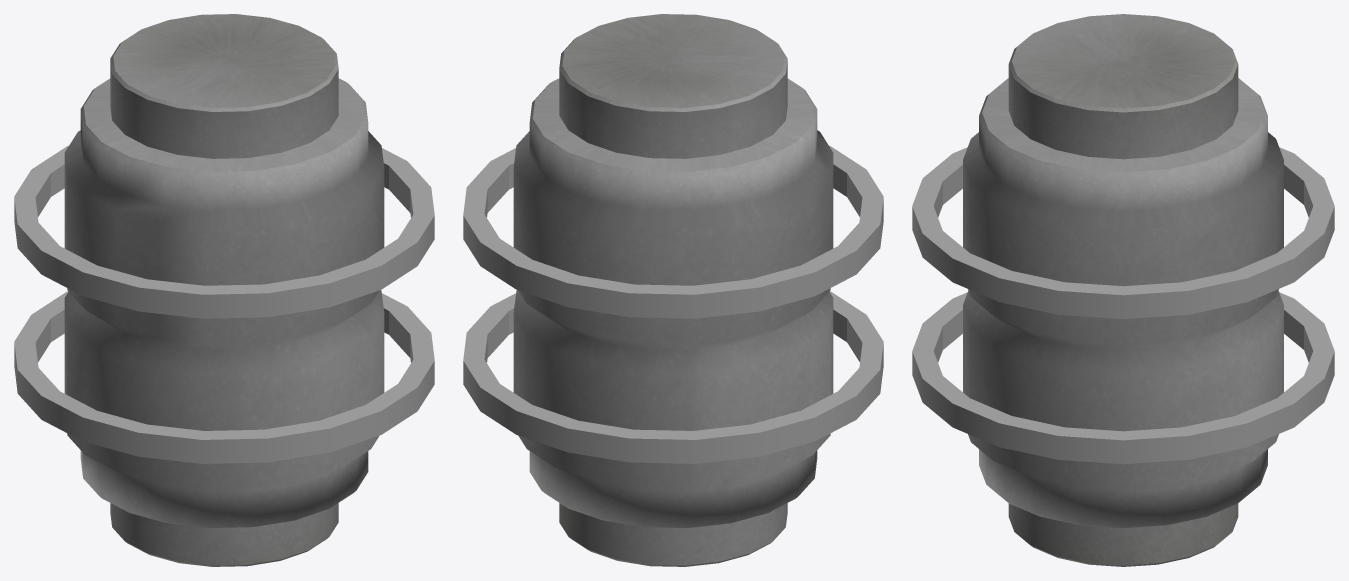
Rendered from Gerador (1).fbx.
3 views of the same model, side by side, from view 1: azimuth 30°, elevation 25°; view 2: azimuth 150°, elevation 25°; view 3: azimuth 270°, elevation 25° (orthographic).
Visible parts, largest first — view 1: pCylinder15, pCylinder17, pCylinder16; view 2: pCylinder15, pCylinder17, pCylinder16; view 3: pCylinder15, pCylinder17, pCylinder16.
Part boxes in pixels (left/top/right/bottom): pCylinder15: left=64, top=14, right=384, bottom=566; pCylinder17: left=14, top=145, right=434, bottom=318; pCylinder16: left=14, top=291, right=434, bottom=463; pCylinder15: left=513, top=14, right=833, bottom=566; pCylinder17: left=463, top=145, right=883, bottom=318; pCylinder16: left=463, top=291, right=883, bottom=463; pCylinder15: left=963, top=14, right=1283, bottom=566; pCylinder17: left=912, top=147, right=1334, bottom=319; pCylinder16: left=912, top=292, right=1334, bottom=464.
Bounding box in the file's own units: 40 × 47.91 × 40.
